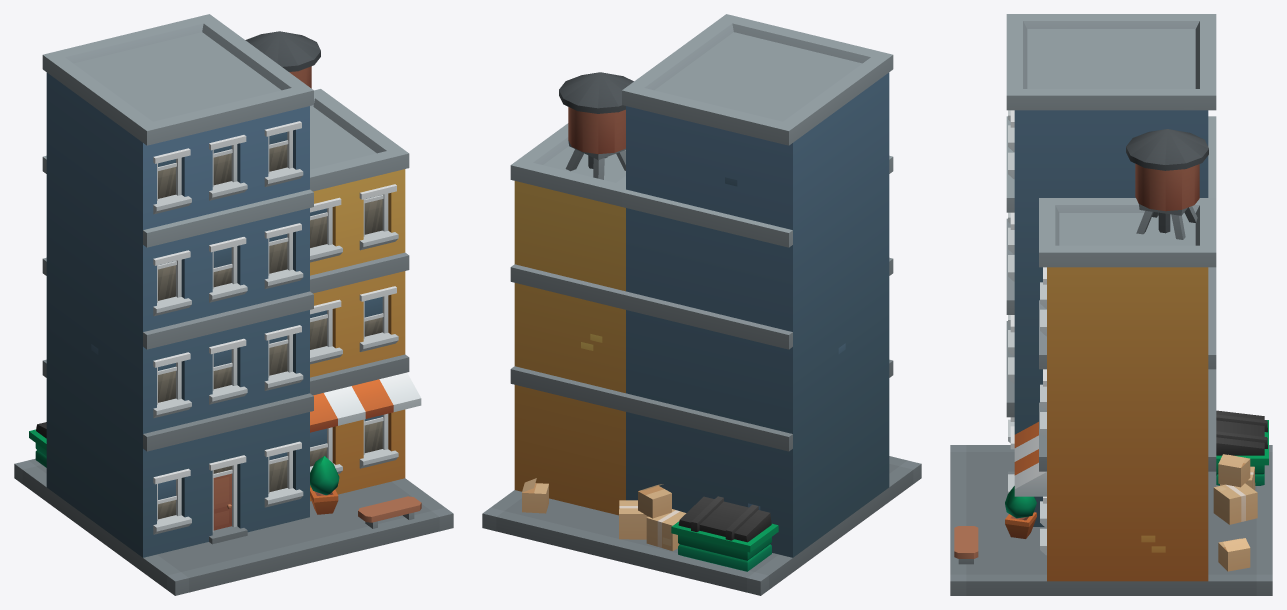
File: building_H.glb
3 views of the same model, side by side, from view 1: azimuth 30°, elevation 25°; view 2: azimuth 150°, elevation 25°; view 3: azimuth 270°, elevation 25° (orthographic).
Visible parts, largest first — view 1: building_H; view 2: building_H; view 3: building_H.
Boxes of the visible parts, x1,y1,x2,y2 form: building_H: (14,14,453,595); building_H: (482,14,921,595); building_H: (950,14,1272,595).
Size of the model in its own units: 2.01 by 3.05 by 2.
1 material, 1 textured.
